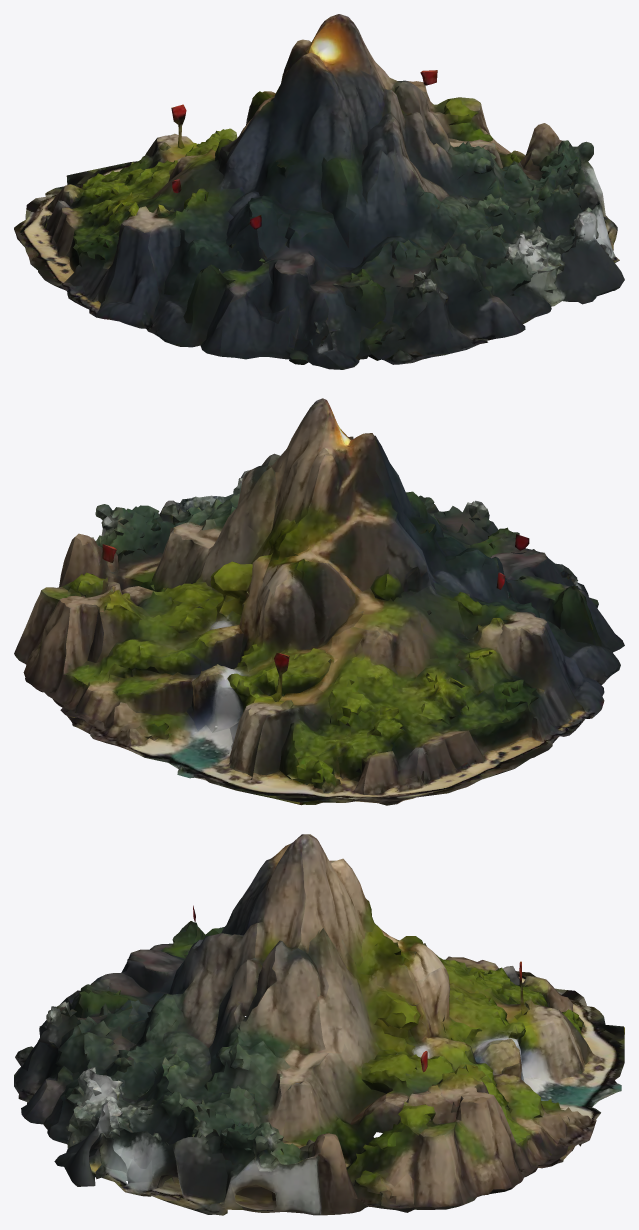
File: island.glb
3 views of the same model, one above another, from view 1: azimuth 30°, elevation 25°; view 2: azimuth 150°, elevation 25°; view 3: azimuth 270°, elevation 25° (orthographic). The views are drawn at different scales.
Parts seen in each view (by area): view 1: geometry_0; view 2: geometry_0; view 3: geometry_0.
Boxes of the visible parts, bbox=[...] form: geometry_0: bbox=[14, 14, 624, 369]; geometry_0: bbox=[14, 398, 624, 805]; geometry_0: bbox=[14, 834, 624, 1215].
Bounding box in the file's own units: 0.9959 × 0.4848 × 1.
1 material, 1 textured.
